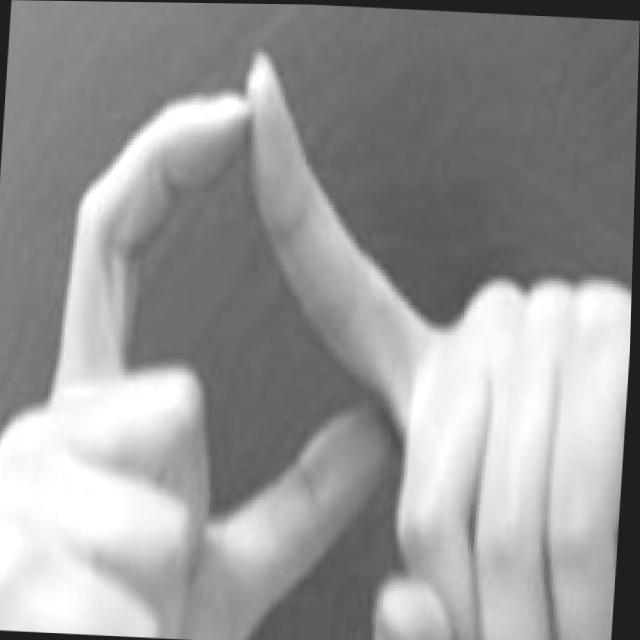D: (0, 35, 514, 640)
